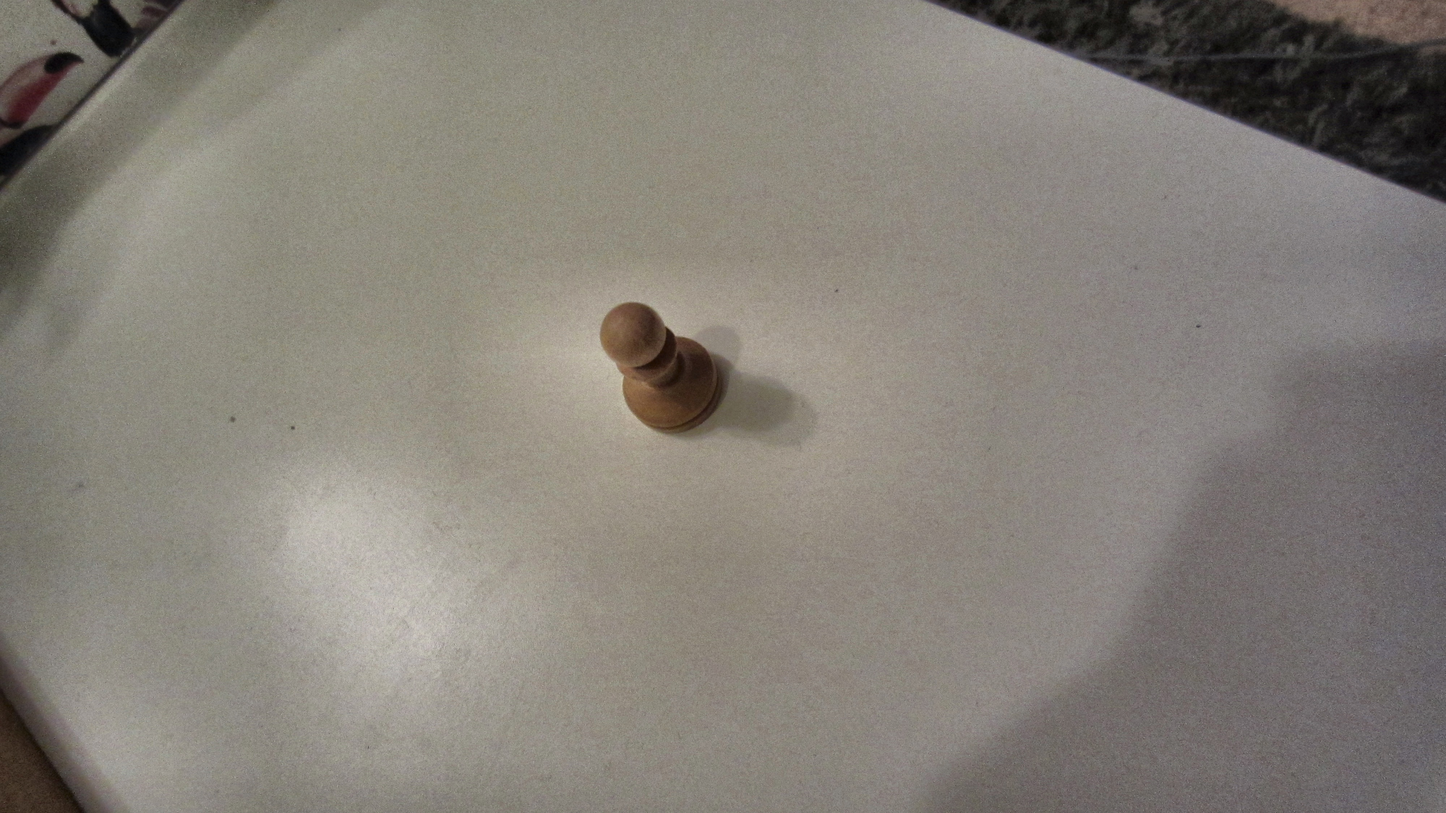white-pawn: (589, 299, 725, 435)
